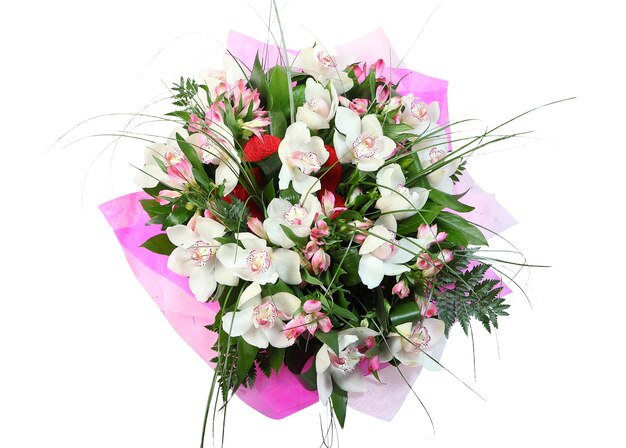Pink: (203, 75, 271, 142)
White: (167, 217, 239, 303), (222, 285, 307, 348), (357, 213, 427, 288), (217, 229, 303, 290), (314, 328, 380, 406), (132, 127, 207, 188), (187, 119, 241, 196), (383, 316, 449, 378), (334, 106, 395, 173), (279, 120, 329, 195), (262, 192, 323, 248), (376, 163, 430, 220), (299, 45, 353, 93), (294, 77, 338, 131), (384, 93, 439, 136)
